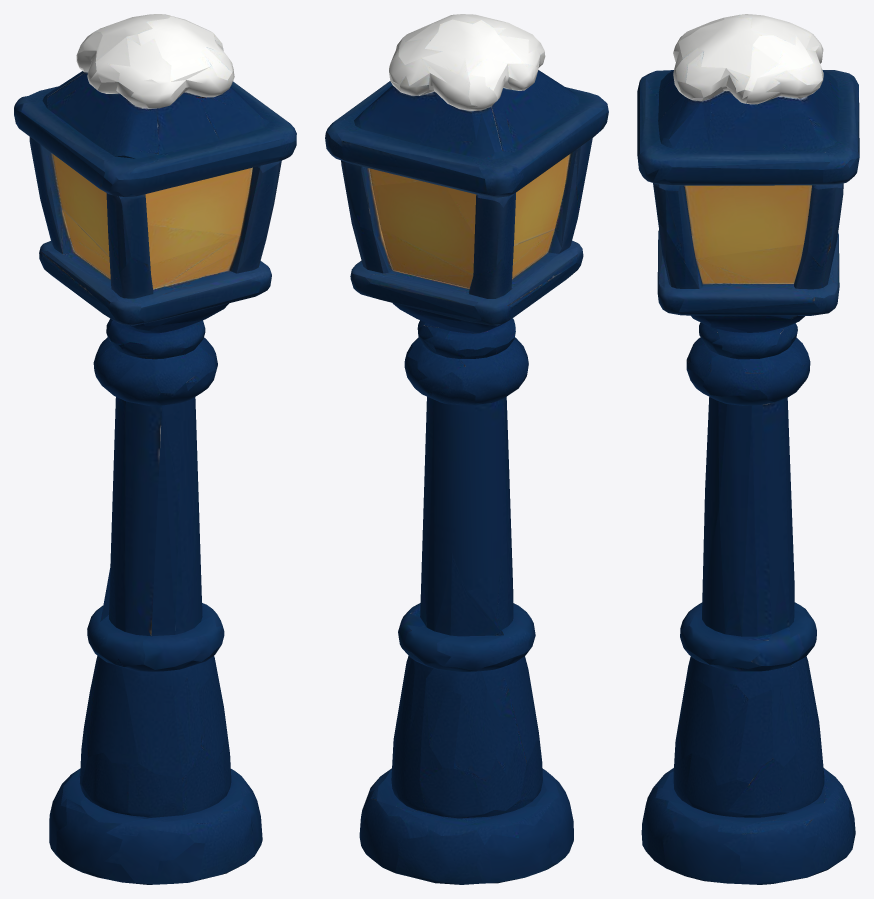
File: sne-lanterne.glb
3 renders of one model, left to right at view 1: azimuth 30°, elevation 25°; view 2: azimuth 150°, elevation 25°; view 3: azimuth 270°, elevation 25°, orthographic.
Size of the model in its own units: 0.4678 by 1.9 by 0.4674.
Materials: 1 (1 with a texture image).
